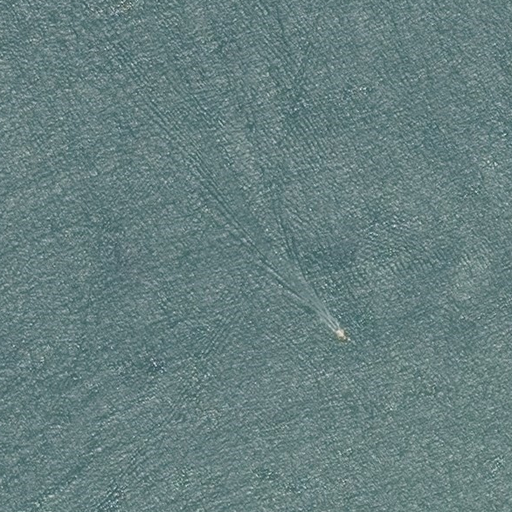ship: (330, 322, 351, 344)
